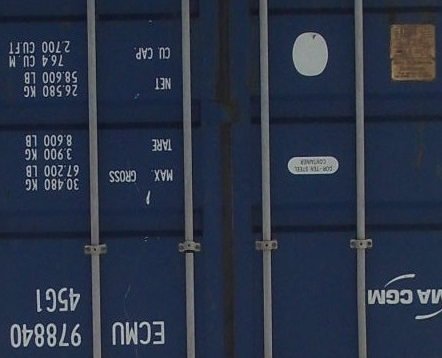container_door: (4, 4, 435, 351)
